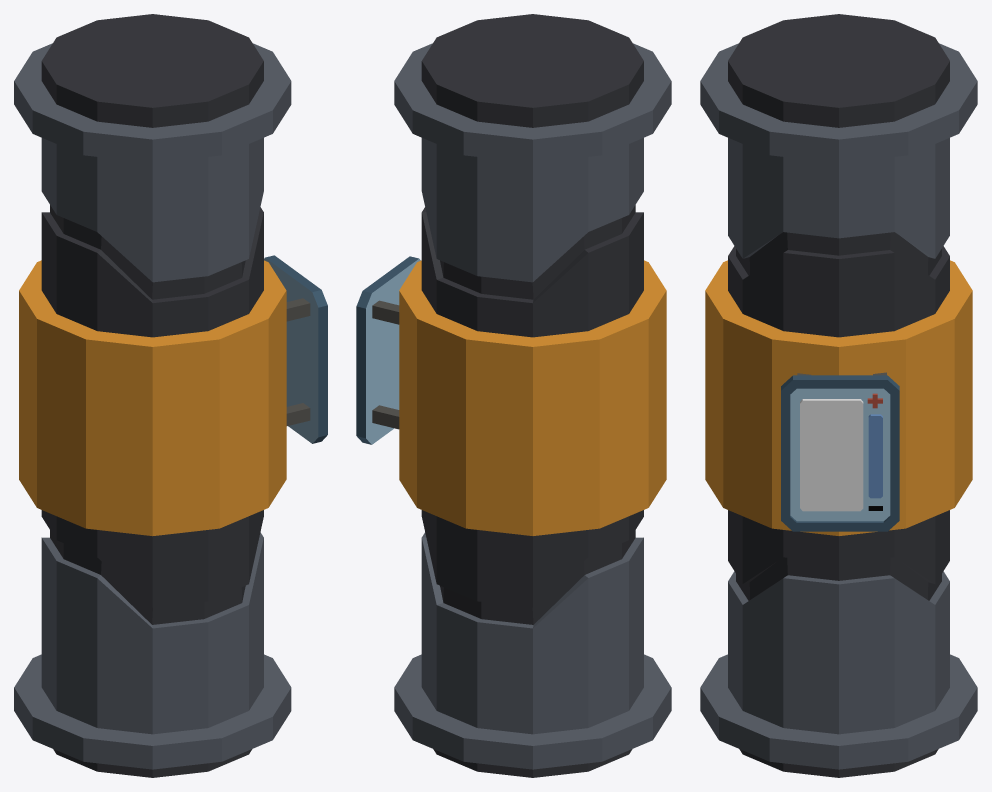
The model's file is SM_Water_pipe_with_water_level_meter.glb.
3 views of the same model, side by side, from view 1: azimuth 30°, elevation 25°; view 2: azimuth 150°, elevation 25°; view 3: azimuth 270°, elevation 25° (orthographic).
Visible parts, largest first — view 1: SM_Water_pipe_with_water_level_meter; view 2: SM_Water_pipe_with_water_level_meter; view 3: SM_Water_pipe_with_water_level_meter.
Part boxes in pixels (<box>): SM_Water_pipe_with_water_level_meter: <box>14,14,327,777</box>; SM_Water_pipe_with_water_level_meter: <box>356,14,671,777</box>; SM_Water_pipe_with_water_level_meter: <box>700,14,977,777</box>.
Bounding box in the file's own units: 0.8309 × 2 × 0.7487.
Materials: 2 (1 with a texture image).
